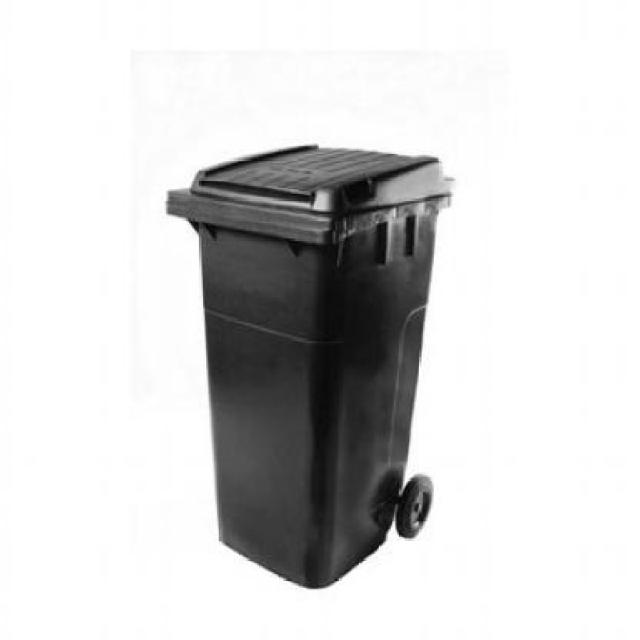garbage container: (156, 135, 467, 596)
